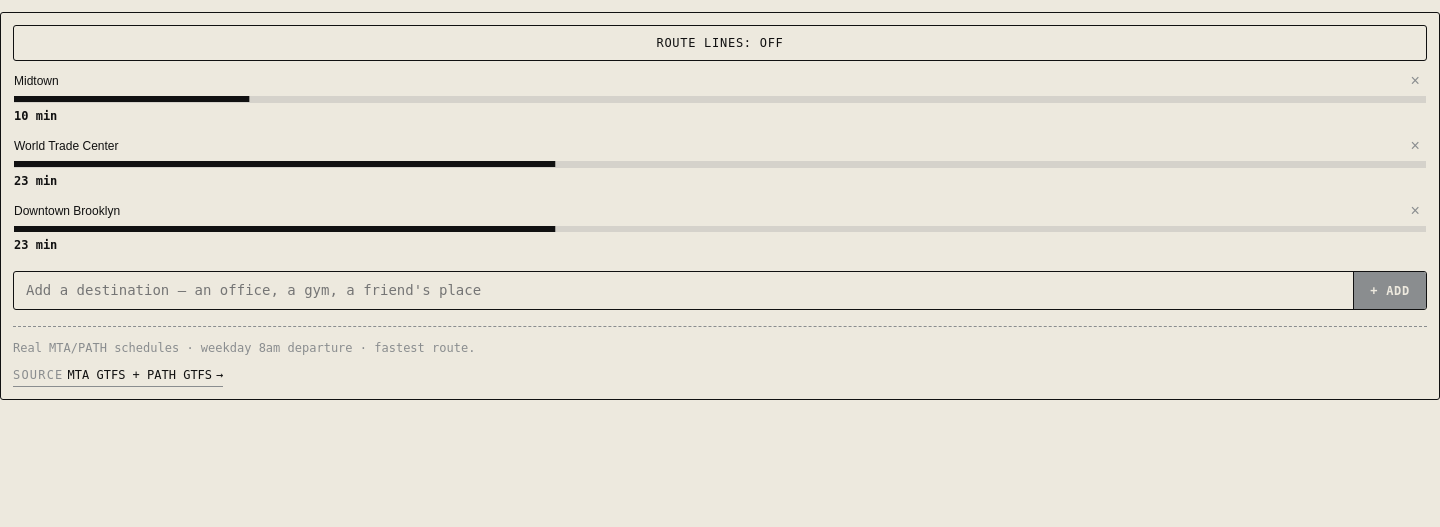
Test: GettingAroundField -- Wave 4 route-lines toggle + nav directions › clicking (selecting) a row shows real nav-directions steps, toggle off or on
The width and height of the screenshot is (1440, 527).
Click the button "Midtown 10 min ×": click(720, 97) left=9, top=65, right=1431, bottom=130
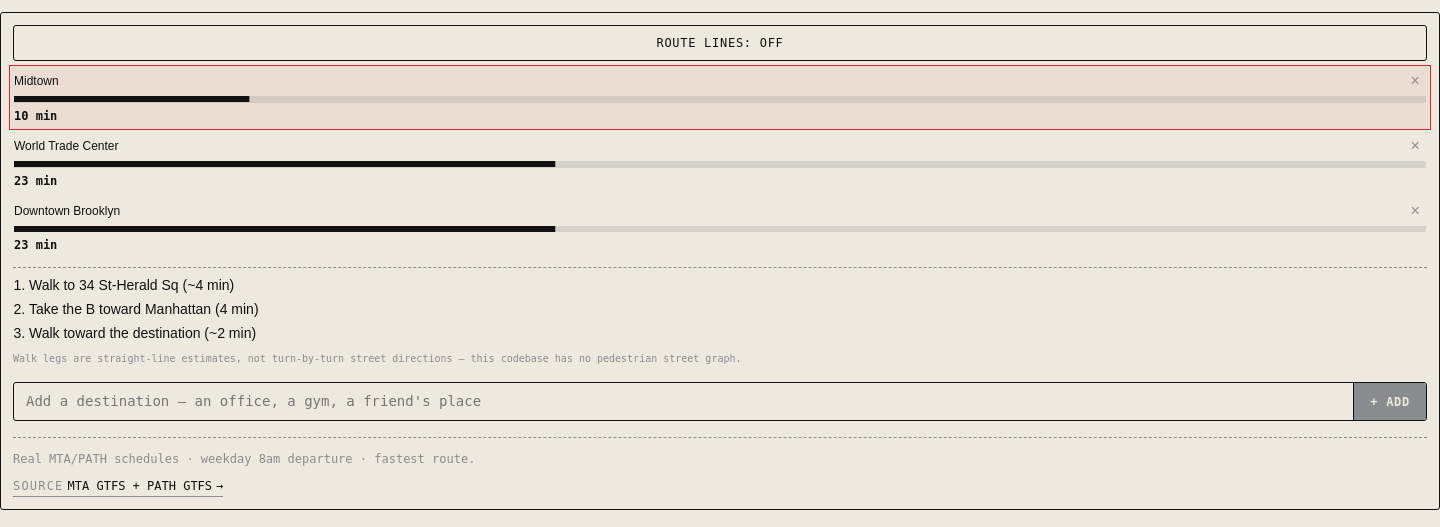
Expected: the list item "Walk to 34 St-Herald Sq (~4 min)" is shown, left=29, top=277, right=234, bottom=293
Expected: the list item "Take the B toward Manhattan (4 min)" is shown, left=29, top=301, right=259, bottom=317
Expected: the list item "Walk toward the destination (~2 min)" is shown, left=29, top=324, right=256, bottom=340
